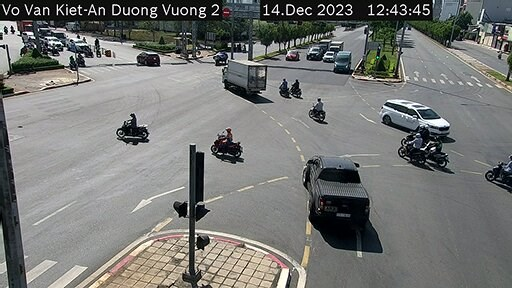car: (290, 147, 373, 220), (379, 92, 446, 142), (136, 48, 163, 67), (334, 46, 348, 73), (305, 40, 320, 62), (282, 48, 298, 63), (322, 47, 333, 64)
motorbike: (111, 108, 167, 141), (209, 123, 246, 156), (400, 132, 426, 165), (423, 135, 450, 165), (493, 155, 512, 187), (302, 95, 327, 119), (414, 118, 432, 145), (276, 77, 288, 100), (290, 77, 299, 98)
truck: (221, 57, 260, 96), (319, 38, 332, 57), (334, 37, 345, 56)
